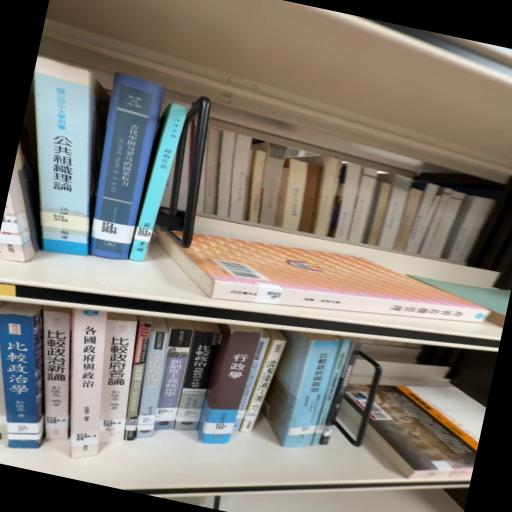flat: (157, 228, 489, 324), (345, 385, 486, 479)
